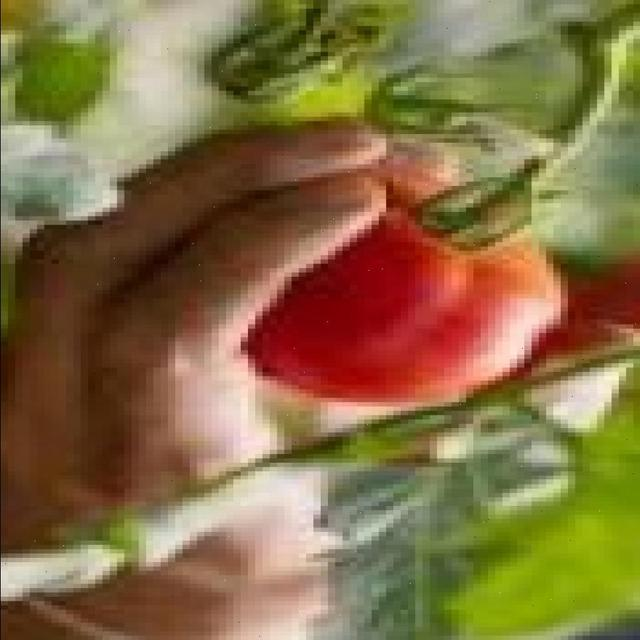Healthy Fruit: (170, 129, 387, 262)
